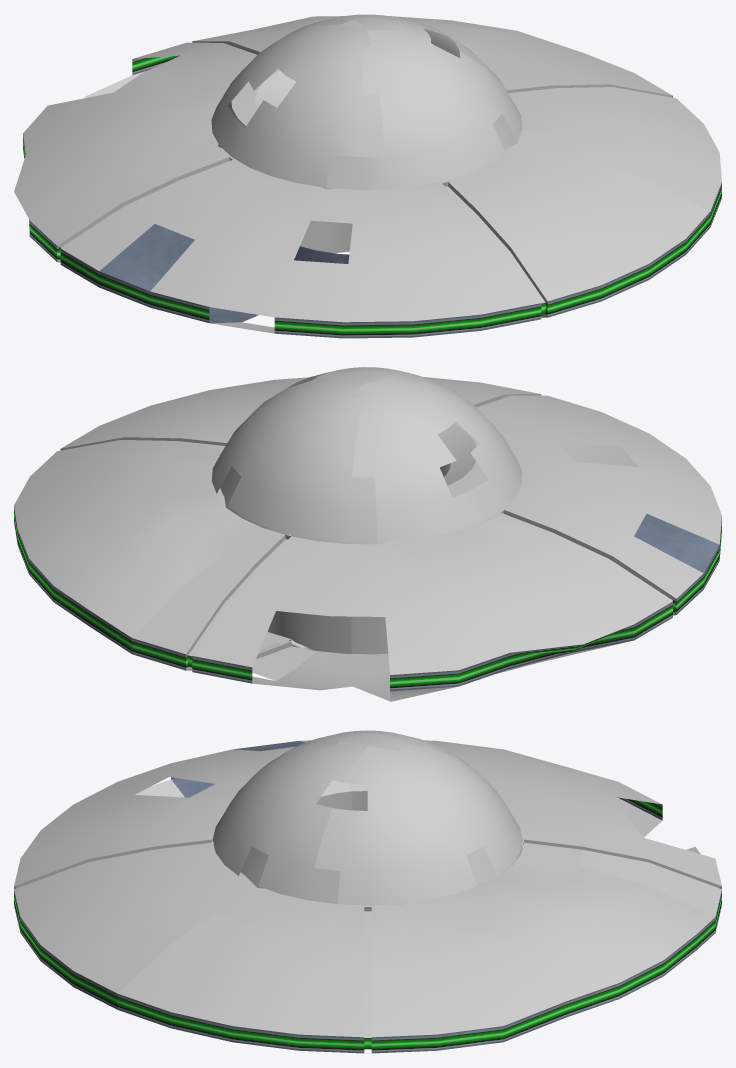
Rendered from UfoChunks.fbx.
The picture shows the model from 3 angles, top to bottom: view 1: azimuth 30°, elevation 25°; view 2: azimuth 150°, elevation 25°; view 3: azimuth 270°, elevation 25°; orthographic projection.
Visible parts, largest first — view 1: UFO_body.002, UFO_body, UFO_body.001, UFO_cockpit.002, UFO_cockpit, UFO_cockpit.001; view 2: UFO_body, UFO_body.001, UFO_body.002, UFO_cockpit.001, UFO_cockpit, UFO_cockpit.002; view 3: UFO_body.001, UFO_body.002, UFO_cockpit.001, UFO_body, UFO_cockpit.002, UFO_cockpit.
Boxes of the visible parts, box(x1,y1,x2,y2) form: UFO_body.002: box(60, 113, 710, 338); UFO_body: box(14, 29, 295, 262); UFO_body.001: box(253, 16, 721, 253); UFO_cockpit.002: box(326, 30, 522, 189); UFO_cockpit: box(211, 20, 384, 187); UFO_cockpit.001: box(293, 14, 505, 89); UFO_body: box(132, 469, 676, 701); UFO_body.001: box(14, 379, 351, 680); UFO_body.002: box(275, 377, 721, 614); UFO_cockpit.001: box(212, 372, 377, 542); UFO_cockpit: box(346, 377, 522, 542); UFO_cockpit.002: box(299, 367, 450, 390); UFO_body.001: box(117, 842, 715, 1053); UFO_body.002: box(14, 740, 351, 1009); UFO_cockpit.001: box(314, 743, 522, 905); UFO_body: box(350, 740, 721, 931); UFO_cockpit.002: box(212, 741, 367, 903); UFO_cockpit: box(259, 730, 476, 770).
Bounding box in the file's own units: 6787 × 2704 × 6787.
